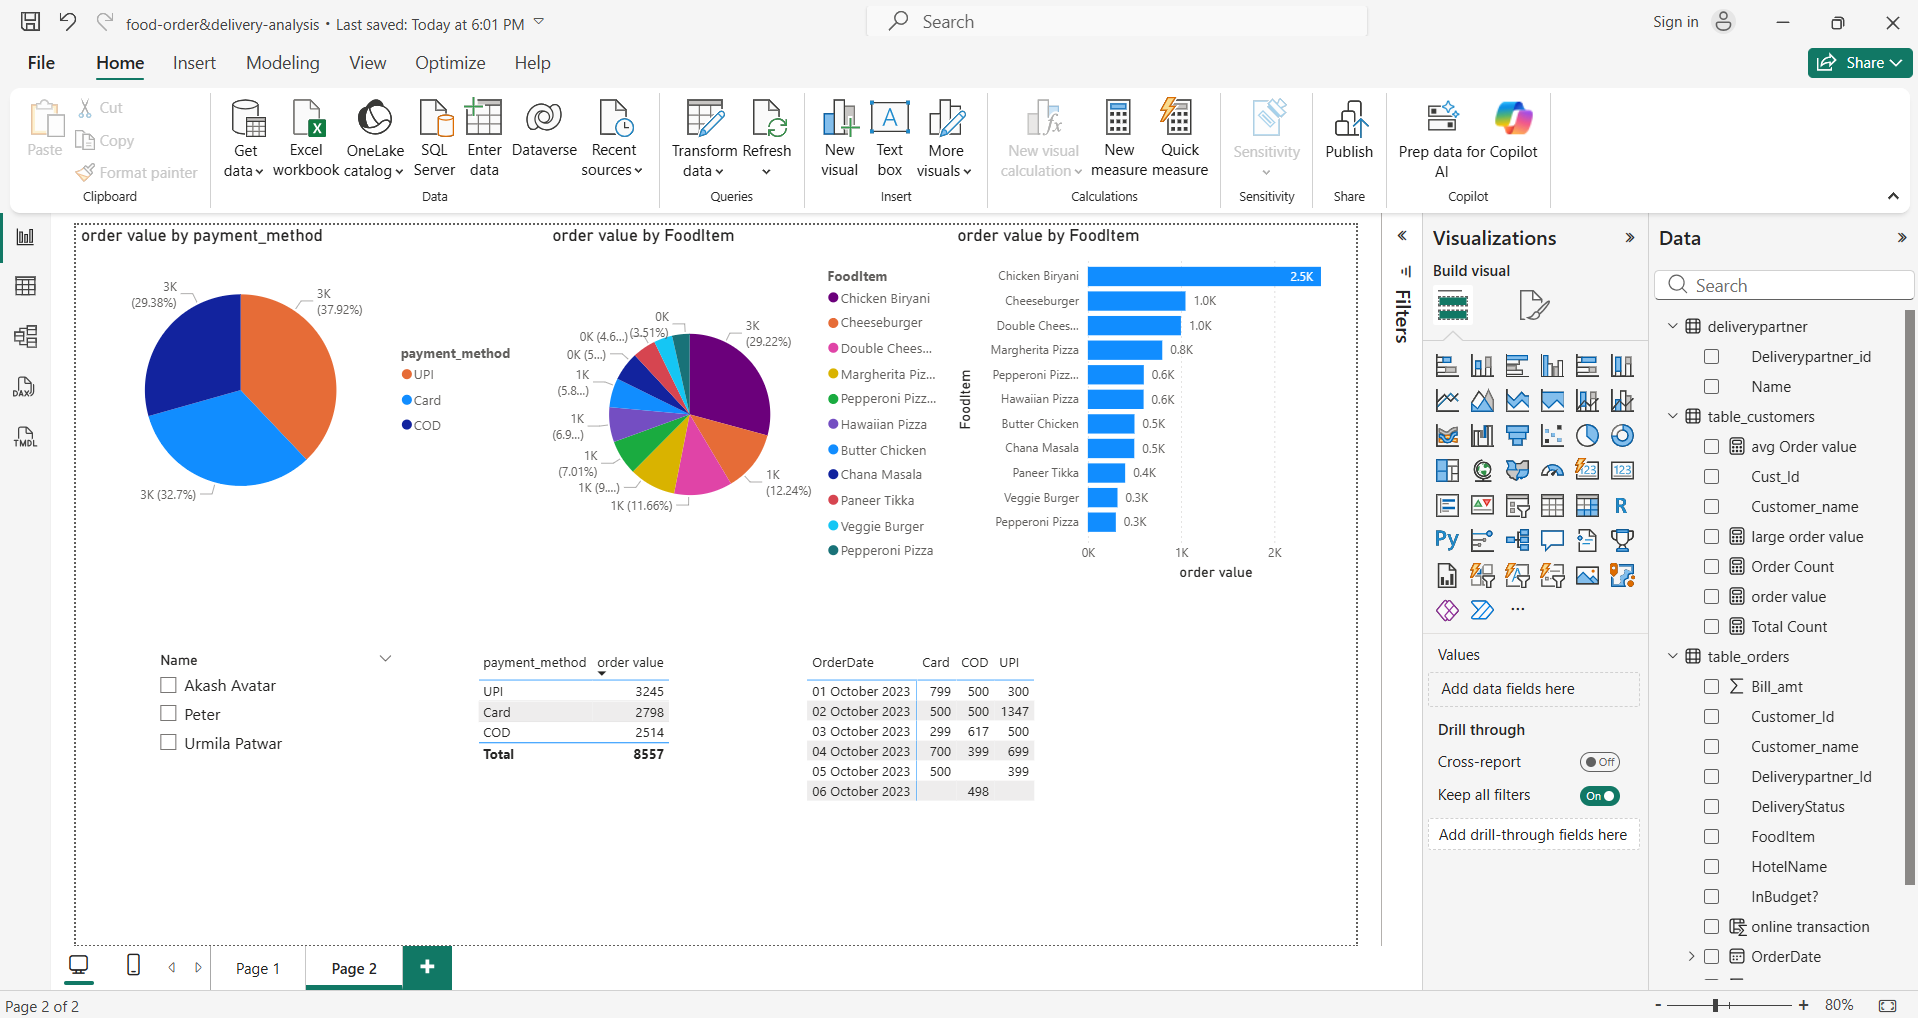

Layout of this report page (visuals, bound fields, positions):
{"tool":"powerbi","page":{"name":"Page 2","canvas":[1280,720],"ordinal":1},"visuals":[{"type":"pieChart","fields":{"Y":["table_customers.order value"],"Category":["table_orders.payment_method"]},"box":[0,0,455.7,311.4],"z":1000},{"type":"barChart","fields":{"Y":["table_customers.order value"],"Category":["table_orders.FoodItem"]},"box":[875.7,0,404.3,360],"z":2000},{"type":"pieChart","fields":{"Category":["table_orders.FoodItem"],"Y":["table_customers.order value"]},"box":[471.4,0,404.3,360],"z":3000},{"type":"slicer","fields":{"Values":["deliverypartner.Name"]},"box":[71.4,421.4,257.1,184.3],"z":4001},{"type":"tableEx","fields":{"Values":["table_orders.payment_method","table_customers.order value"]},"box":[395.7,421.4,260,184.3],"z":4002},{"type":"pivotTable","fields":{"Values":["table_customers.order value"],"Columns":["table_orders.payment_method"],"Rows":["table_orders.OrderDate"]},"box":[725.7,421.4,260,184.3],"z":4003}]}

Visuals, with their boxes on the page's 1280x720 design canvas (x1, y1, x2, y2). These are canvas units, not pixel positions in the 1918x1018 screenshot, which may show the page scaled, cropped or inside an application window:
pieChart - table_customers.order value x table_orders.payment_method: left=0, top=0, right=456, bottom=311
barChart - table_customers.order value x table_orders.FoodItem: left=876, top=0, right=1280, bottom=360
pieChart - table_orders.FoodItem x table_customers.order value: left=471, top=0, right=876, bottom=360
slicer - deliverypartner.Name: left=71, top=421, right=328, bottom=606
tableEx - table_orders.payment_method x table_customers.order value: left=396, top=421, right=656, bottom=606
pivotTable - table_customers.order value x table_orders.payment_method: left=726, top=421, right=986, bottom=606
